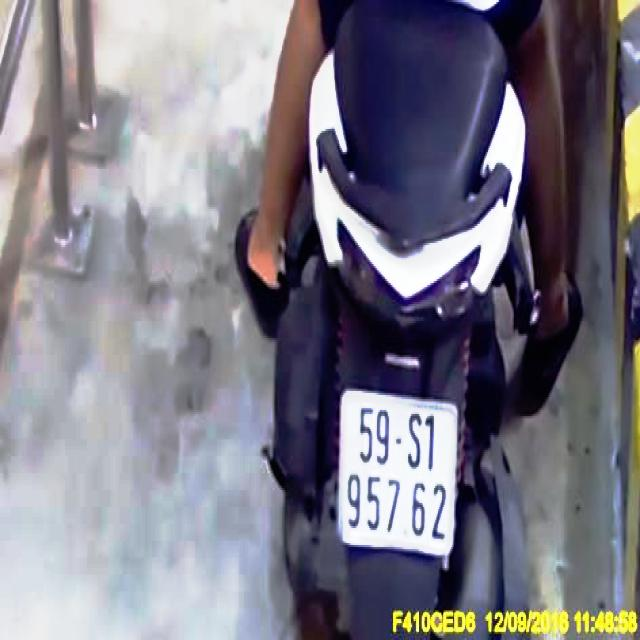license_plate: (342, 392, 458, 553)
